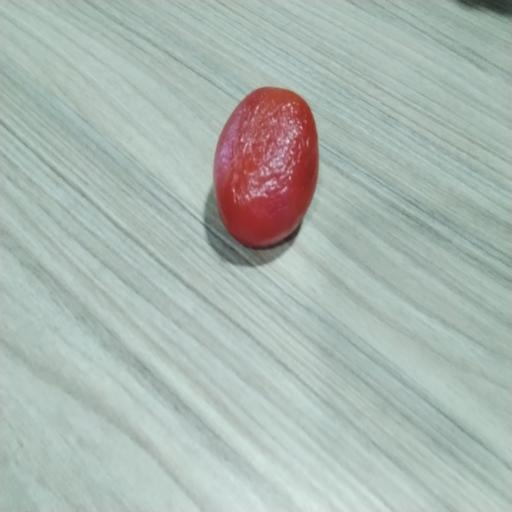spoiled: (214, 87, 319, 247)
